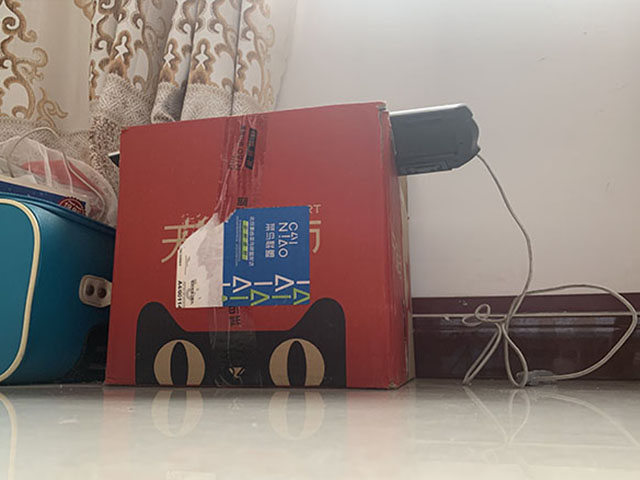wire: (459, 162, 639, 391)
